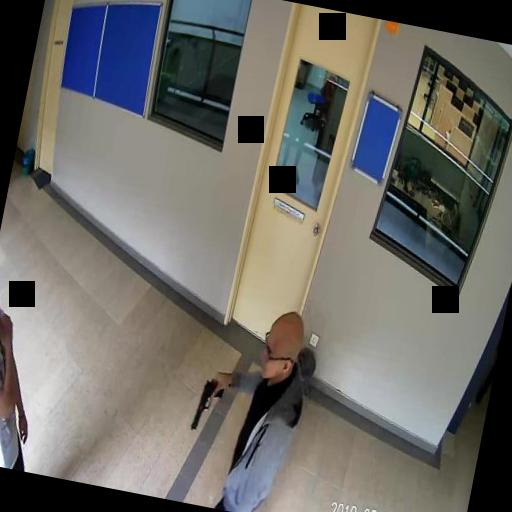Handgun: (189, 374, 224, 433)
